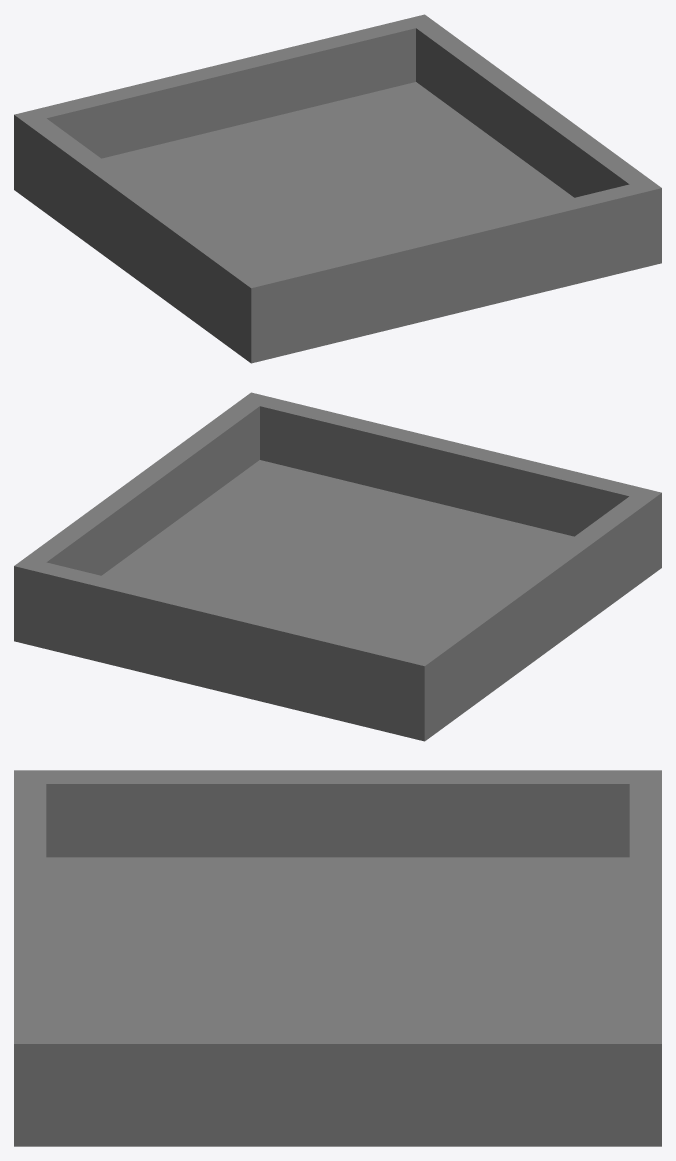
Rendered from GreyRoof_4Edges.glb.
3 views of the same model, one above another, from view 1: azimuth 30°, elevation 25°; view 2: azimuth 150°, elevation 25°; view 3: azimuth 270°, elevation 25° (orthographic). The views are drawn at different scales.
Visible parts, largest first — view 1: roof_flat_4Edges_grey; view 2: roof_flat_4Edges_grey; view 3: roof_flat_4Edges_grey.
Boxes of the visible parts, x1,y1,x2,y2 form: roof_flat_4Edges_grey: (14,14,661,363); roof_flat_4Edges_grey: (14,392,661,741); roof_flat_4Edges_grey: (14,770,661,1146).
Size of what is drawn, in the model's own units: 4 by 0.7 by 4.
1 material, 1 textured.
